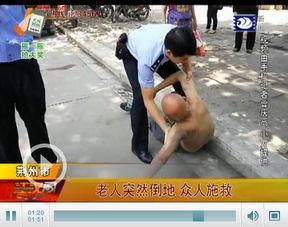Fall-Detected: (146, 72, 221, 172)
